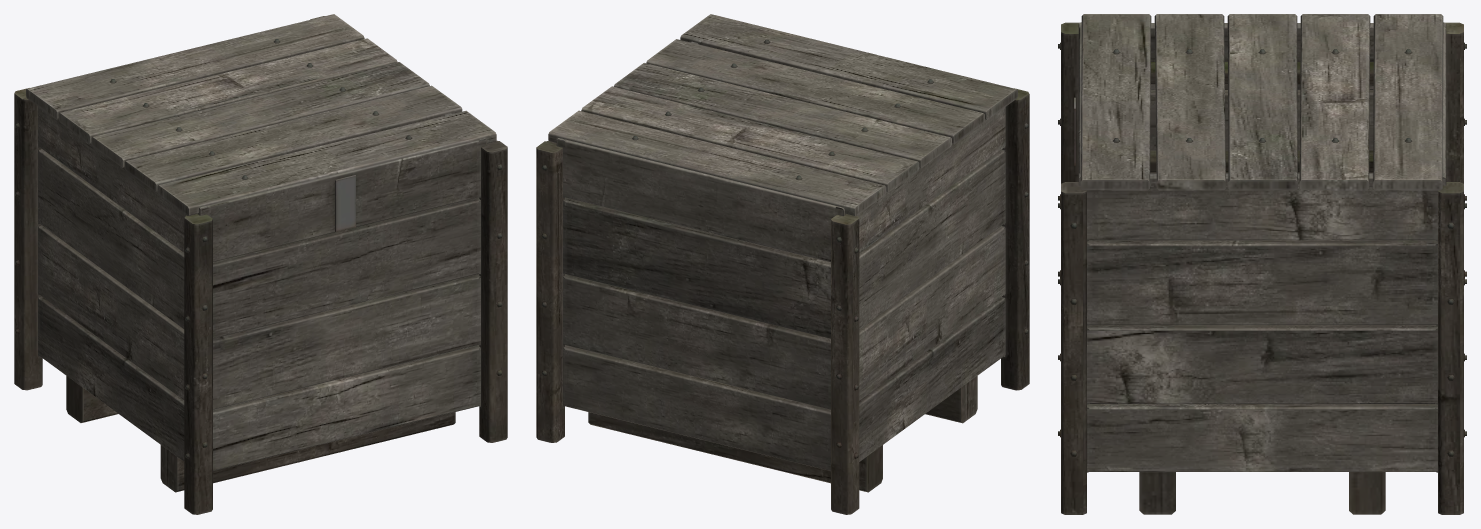
The model's file is crate.glb.
3 views of the same model, side by side, from view 1: azimuth 30°, elevation 25°; view 2: azimuth 150°, elevation 25°; view 3: azimuth 270°, elevation 25° (orthographic). The views are drawn at different scales.
Visible parts, largest first — view 1: crate; view 2: crate; view 3: crate.
Boxes of the visible parts, bbox=[...] form: crate: bbox=[14, 14, 507, 514]; crate: bbox=[536, 14, 1029, 514]; crate: bbox=[1058, 14, 1466, 514].
Size of the model in its own units: 0.7808 by 0.7264 by 0.7808.
Materials: 1 (1 with a texture image).
